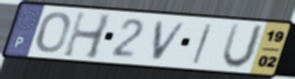2: (108, 17, 148, 60)
H: (60, 9, 114, 61)
I: (190, 22, 216, 66)
O: (34, 11, 72, 55)
U: (219, 21, 267, 71)
V: (150, 20, 190, 62)
